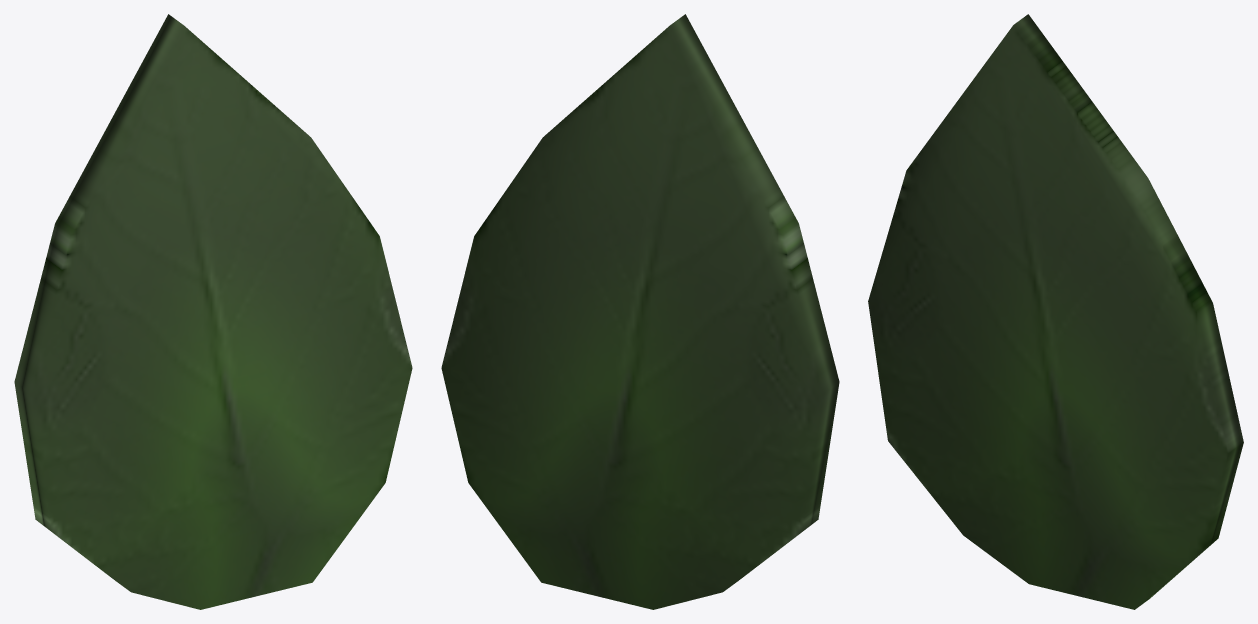
Rendered from Leaf.fbx.
The picture shows the model from 3 angles, left to right: view 1: azimuth 30°, elevation 25°; view 2: azimuth 150°, elevation 25°; view 3: azimuth 330°, elevation 25°; orthographic projection. The views are drawn at different scales.
Visible parts, largest first — view 1: Leaf; view 2: Leaf; view 3: Leaf.
Part boxes in pixels (x1,y1,x2,y2): Leaf: [14, 14, 412, 609]; Leaf: [441, 14, 839, 609]; Leaf: [868, 14, 1243, 609].
Bounding box in the file's own units: 0.1663 × 0.2445 × 0.0119.
1 material, 1 textured.
